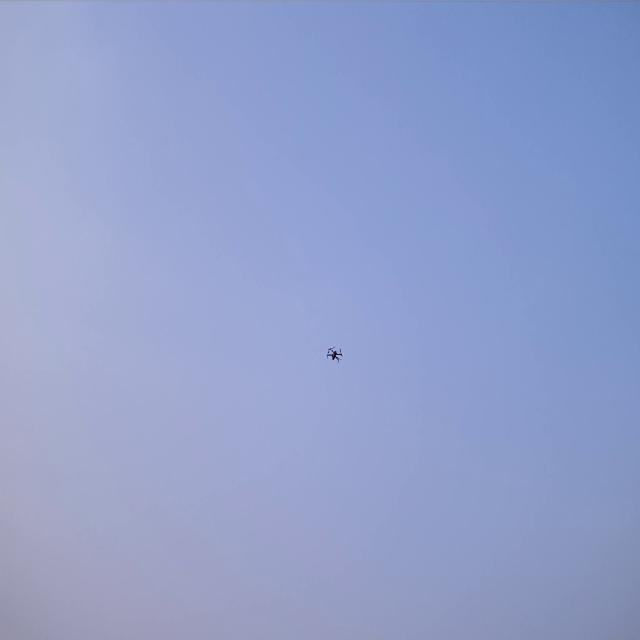UAV: (325, 345, 344, 365)
